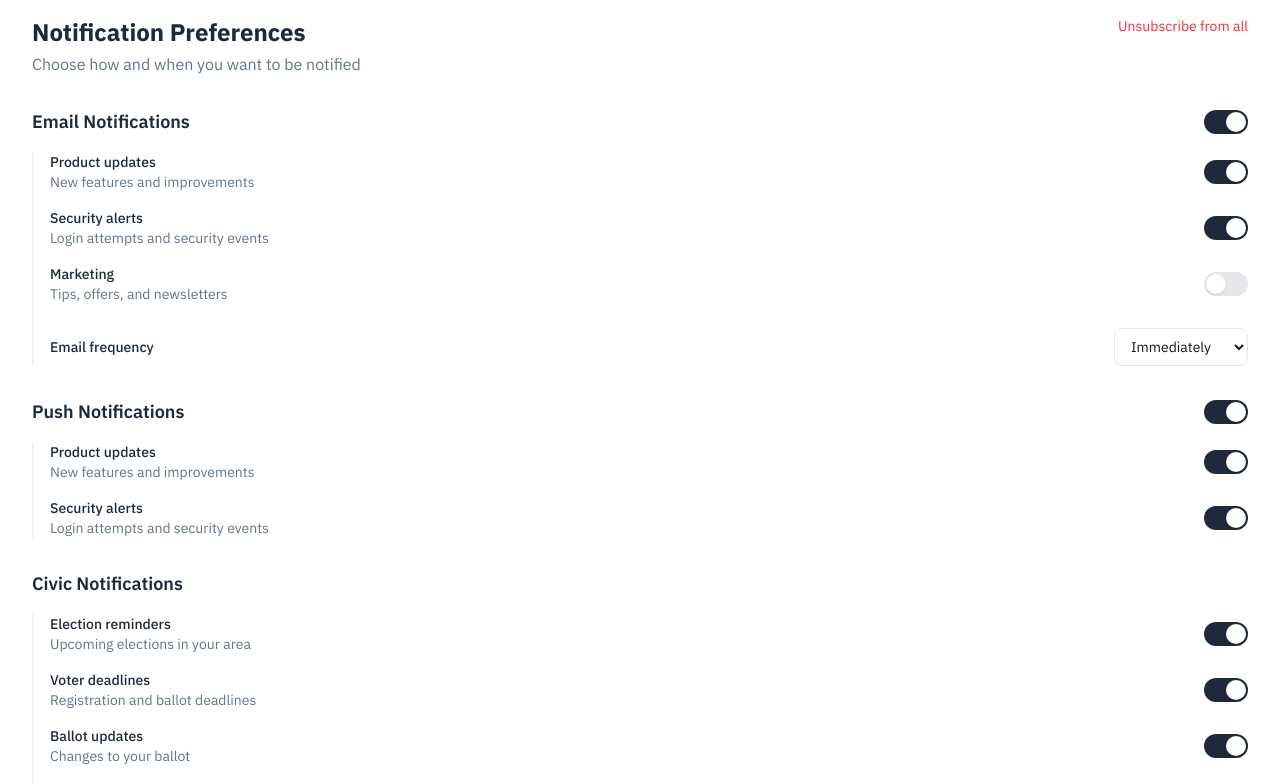
Test case: NotificationsPage › save preferences › should show error message when save fails
Click the button without text in the row of "Tips, offers, and newsletters": (1226, 284) [1204,272,1248,296]
(page scrolled)
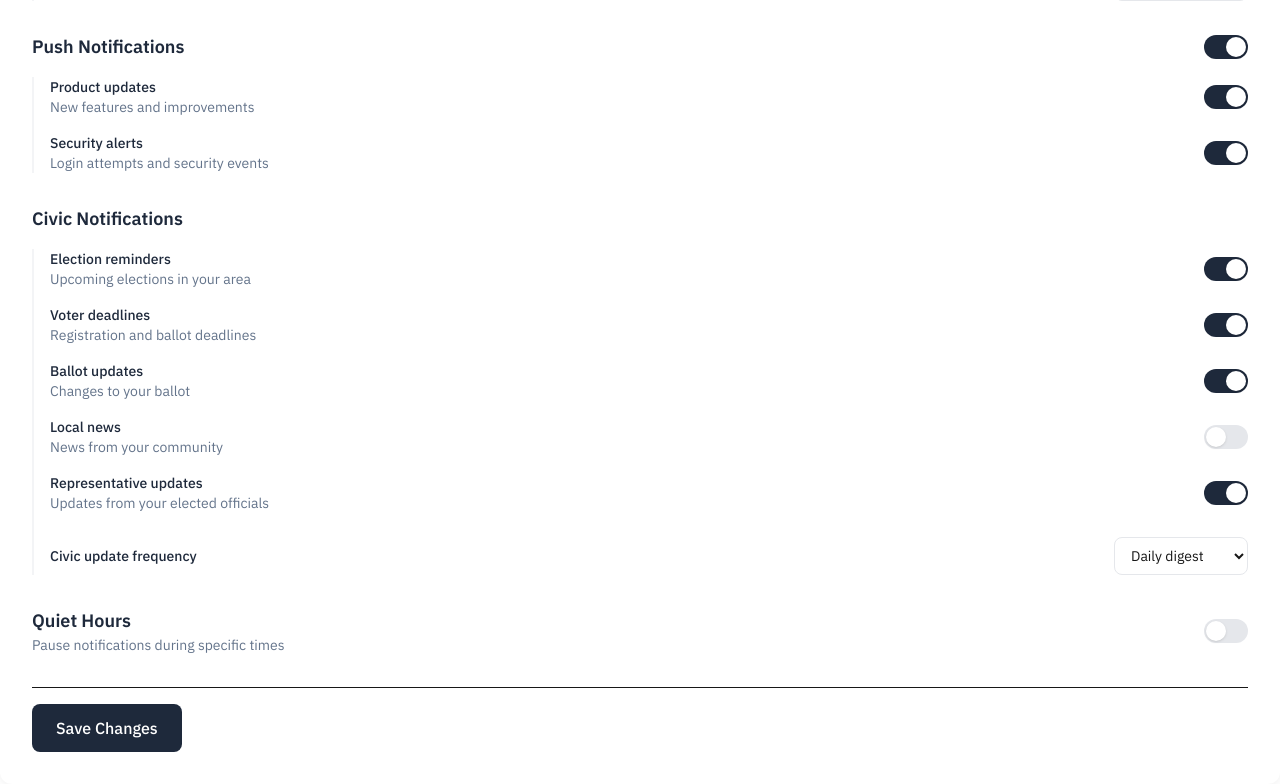
Click the button "Save Changes": (107, 728) [32,704,182,752]
(page scrolled)
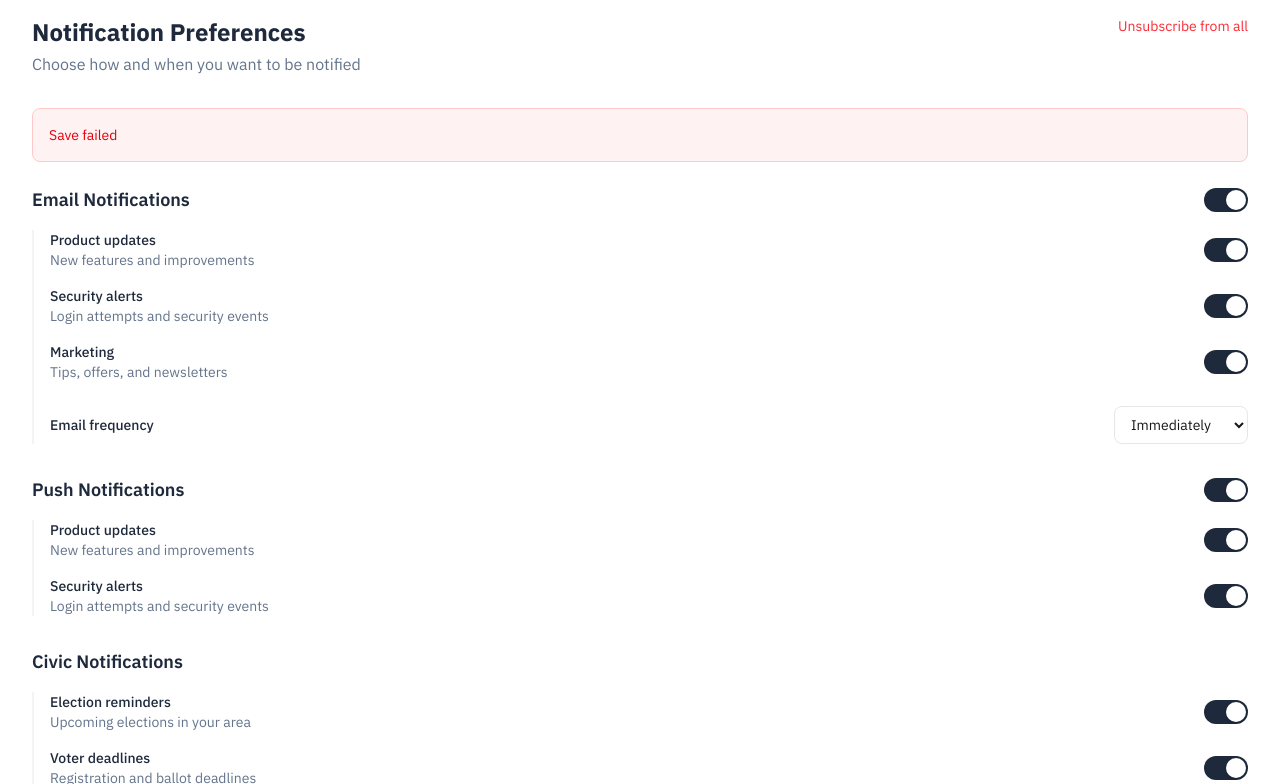
Check: the text "Save failed" is shown, box [49,126,117,144]
